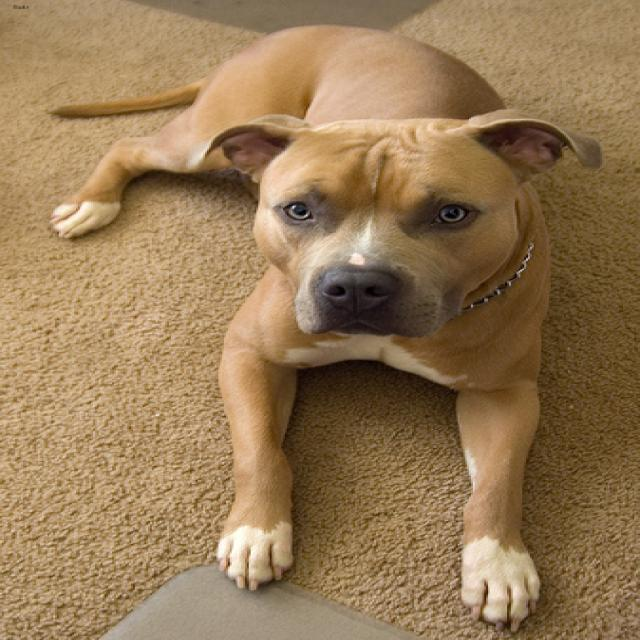dog-american_pit_bull_terrier: (34, 17, 623, 637)
